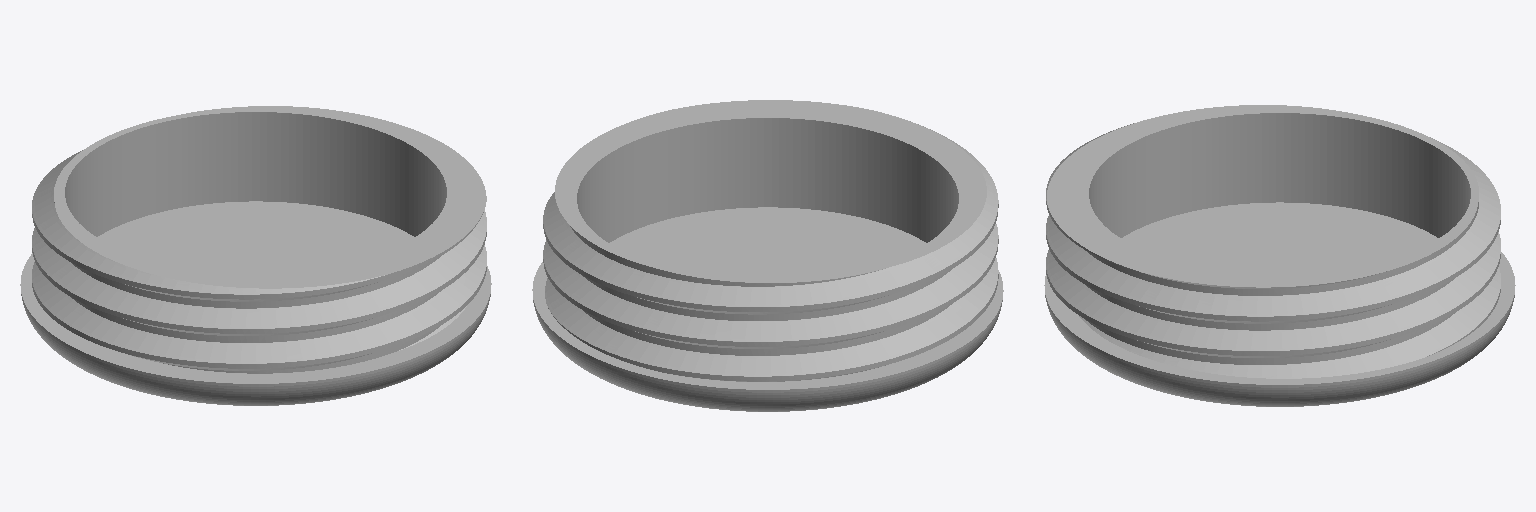
robot.urdf — root:
<?xml version='1.0' encoding='utf-8'?>
<robot name="root">
  <link name="link_001">
    <visual>
      <origin xyz="0 0 0" rpy="0 0 0" />
      <geometry>
        <mesh filename="1171e2e770a27454cd6d1b519eb4eb84bad55f5f47ef5210407c0dcffb086134_scale_000.stl" scale="1.0000E+00 1.0000E+00 1.0000E+00" />
      </geometry>
      <material name="">
        <color rgba="7.50E-01 7.50E-01 7.50E-01 1" />
      </material>
    </visual>
    <collision>
      <origin xyz="0 0 0" rpy="0 0 0" />
      <geometry>
        <mesh filename="1171e2e770a27454cd6d1b519eb4eb84bad55f5f47ef5210407c0dcffb086134_scale_000.stl" scale="1.0000E+00 1.0000E+00 1.0000E+00" />
      </geometry>
    </collision>
  </link>
</robot>

--- Facts derived from the render (not from the file) ---
The picture shows the robot from 3 angles, left to right: view 1: azimuth 30°, elevation 25°; view 2: azimuth 150°, elevation 25°; view 3: azimuth 270°, elevation 25°; orthographic projection.
Robot: root — 1 links, 0 joints (none); root link link_001; default pose: every joint at zero.
Links seen in each view (by area): view 1: link_001; view 2: link_001; view 3: link_001.
Boxes of the visible links, bbox=[...] form: link_001: bbox=[20, 106, 491, 405]; link_001: bbox=[532, 100, 1003, 411]; link_001: bbox=[1044, 105, 1515, 406].
Bounding box of the posed robot: 0.12 × 0.12 × 0.0355 m (x, y, z).
1 mesh visuals loaded from 1 distinct referenced files (1 binary STL).
